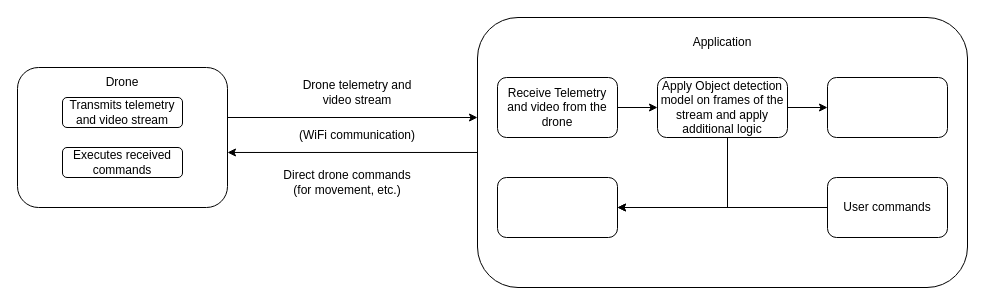
This 985x305 diagram has some shape labels left out. The shapes that lost their labels are listed below. From the top down, each one's centre as x and y in pixels, then its label:
At point 887,107: "Visualise detected objects and log them".
At point 557,207: "Send commands to the drone based on user's input / object detection logic".
